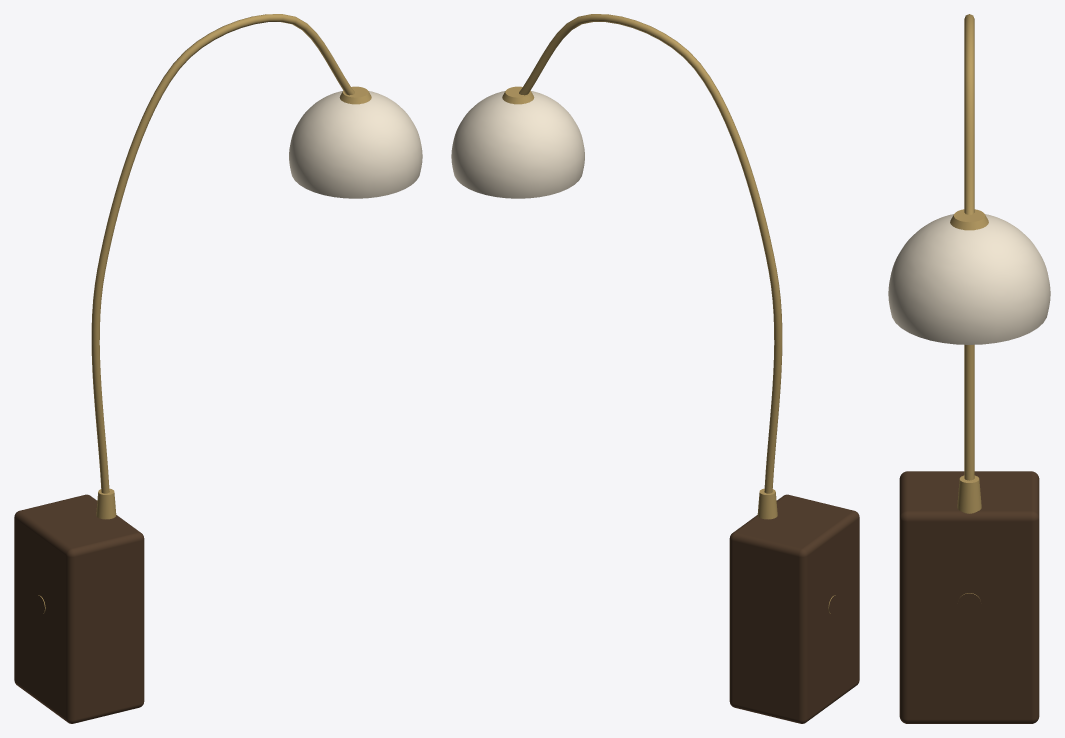
File: atelier-lamp-arc-warm.glb
The picture shows the model from 3 angles, left to right: view 1: azimuth 30°, elevation 25°; view 2: azimuth 150°, elevation 25°; view 3: azimuth 270°, elevation 25°; orthographic projection. The views are drawn at different scales.
Size of the model in its own units: 1.16 by 1.9 by 0.3599.
